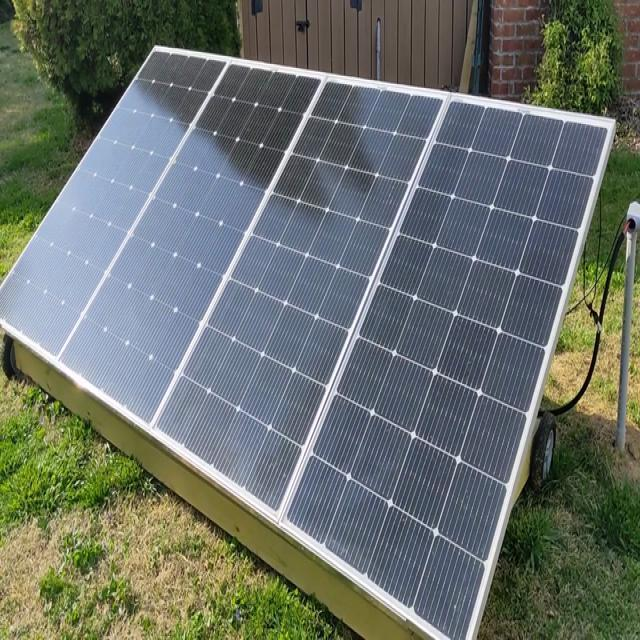Normal Solar Panel: (0, 49, 613, 640)
